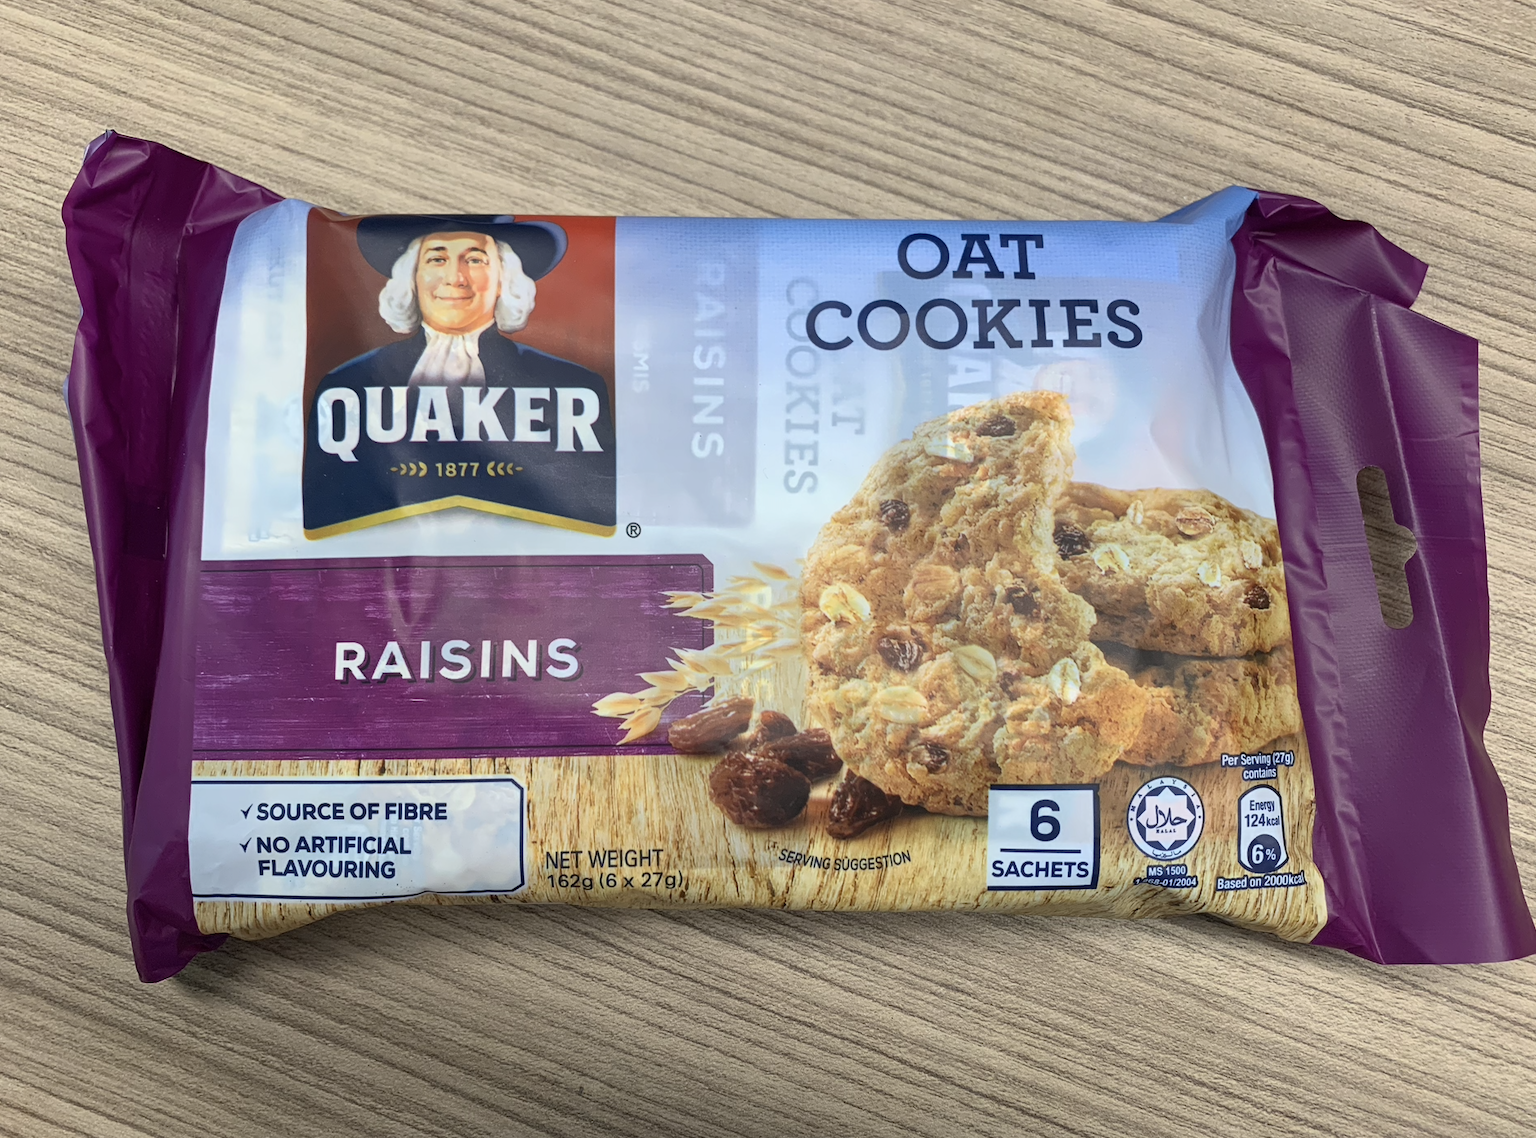cookies_150g: (186, 234, 1315, 889)
